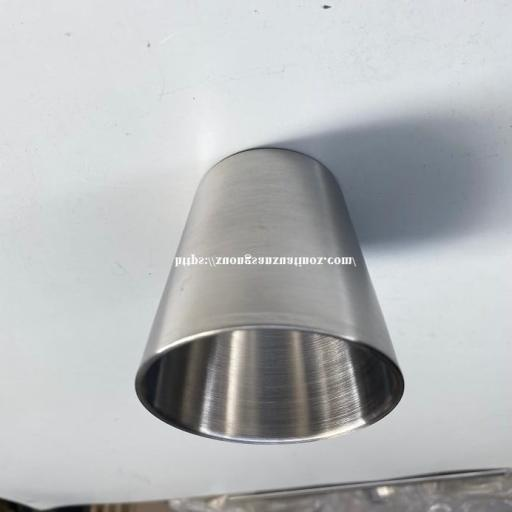cup: (135, 150, 403, 444)
